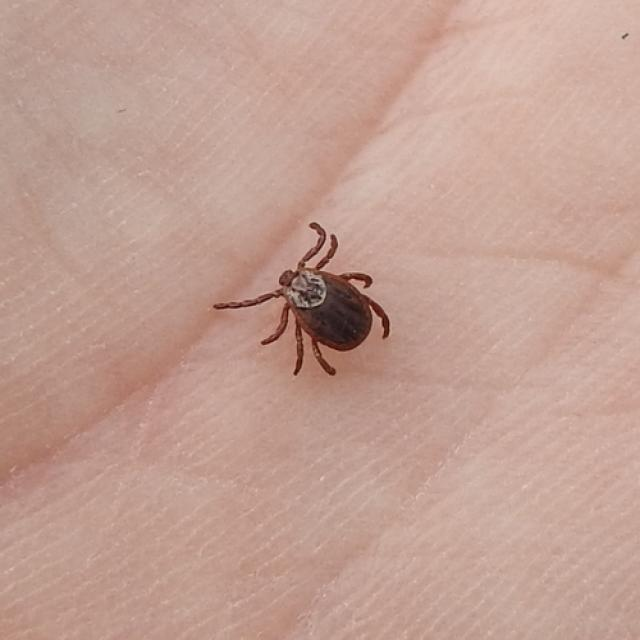Dermacentor Reticulatus-F: (212, 223, 390, 377)
